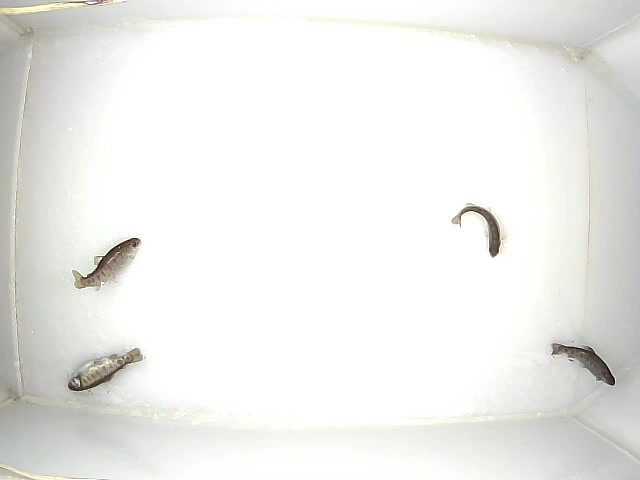fish: (72, 237, 142, 291), (68, 348, 143, 391), (551, 342, 615, 386), (451, 203, 501, 258)
